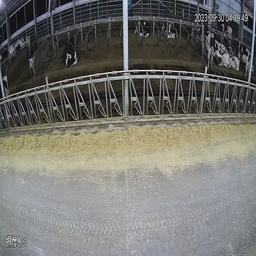cow: (200, 21, 215, 71), (235, 38, 252, 76), (215, 21, 233, 50), (62, 37, 78, 68), (135, 18, 152, 39), (161, 19, 177, 41)
